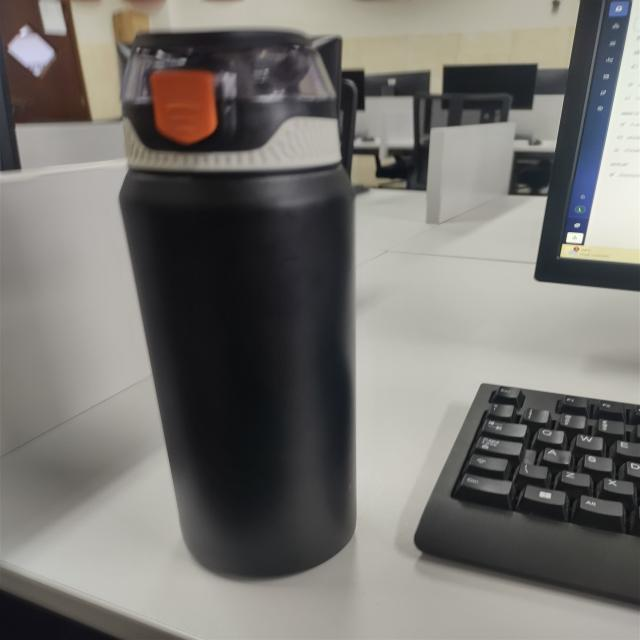Garrafa: (119, 30, 356, 578)
